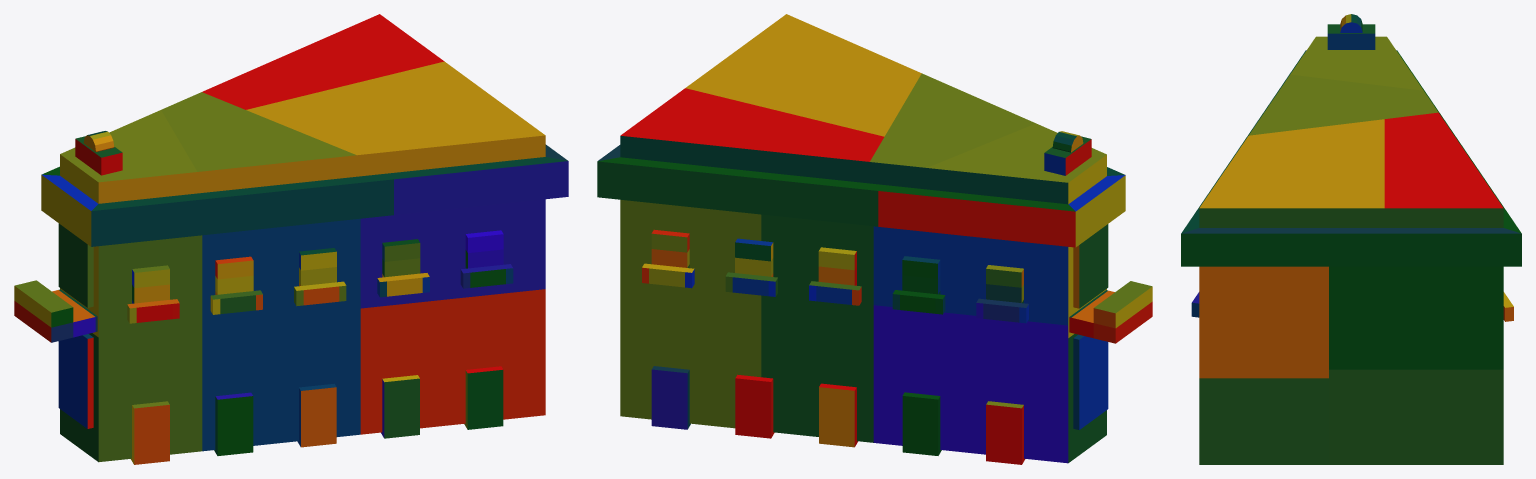
File: M_Caminito.fbx
The picture shows the model from 3 angles, left to right: view 1: azimuth 30°, elevation 25°; view 2: azimuth 150°, elevation 25°; view 3: azimuth 270°, elevation 25°; orthographic projection. The views are drawn at different scales.
Parts seen in each view (by area): view 1: matchsize19; view 2: matchsize19; view 3: matchsize19.
Part boxes in pixels (left/top/right/bottom): matchsize19: left=14, top=14, right=568, bottom=464; matchsize19: left=597, top=14, right=1152, bottom=464; matchsize19: left=1181, top=14, right=1521, bottom=464.
Size of the model in its own units: 10.41 by 7.02 by 7.57.
